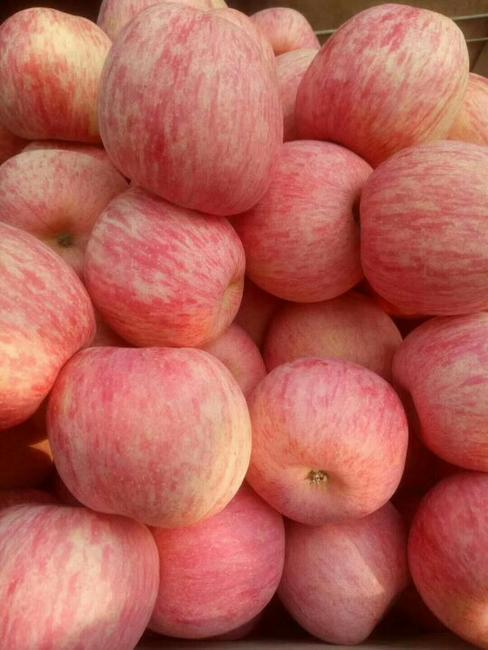apple: (90, 2, 285, 219), (46, 341, 256, 530), (294, 4, 472, 159), (246, 357, 408, 527), (86, 191, 247, 350), (357, 139, 487, 321), (1, 499, 160, 647), (231, 140, 371, 306), (4, 223, 96, 430), (284, 504, 416, 645), (152, 493, 282, 636), (1, 7, 113, 147), (387, 318, 487, 470), (406, 473, 487, 643)
